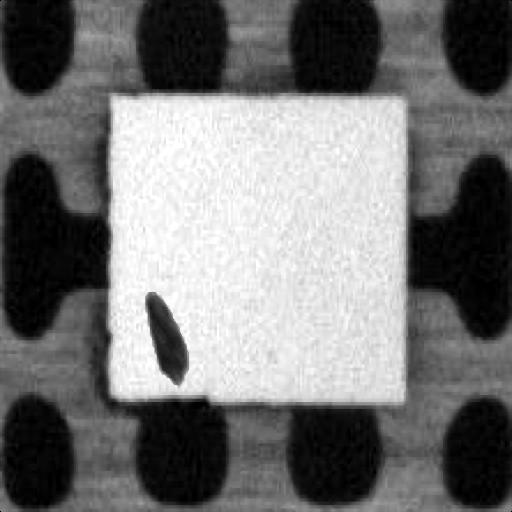DIE_INK: (138, 282, 187, 381)
